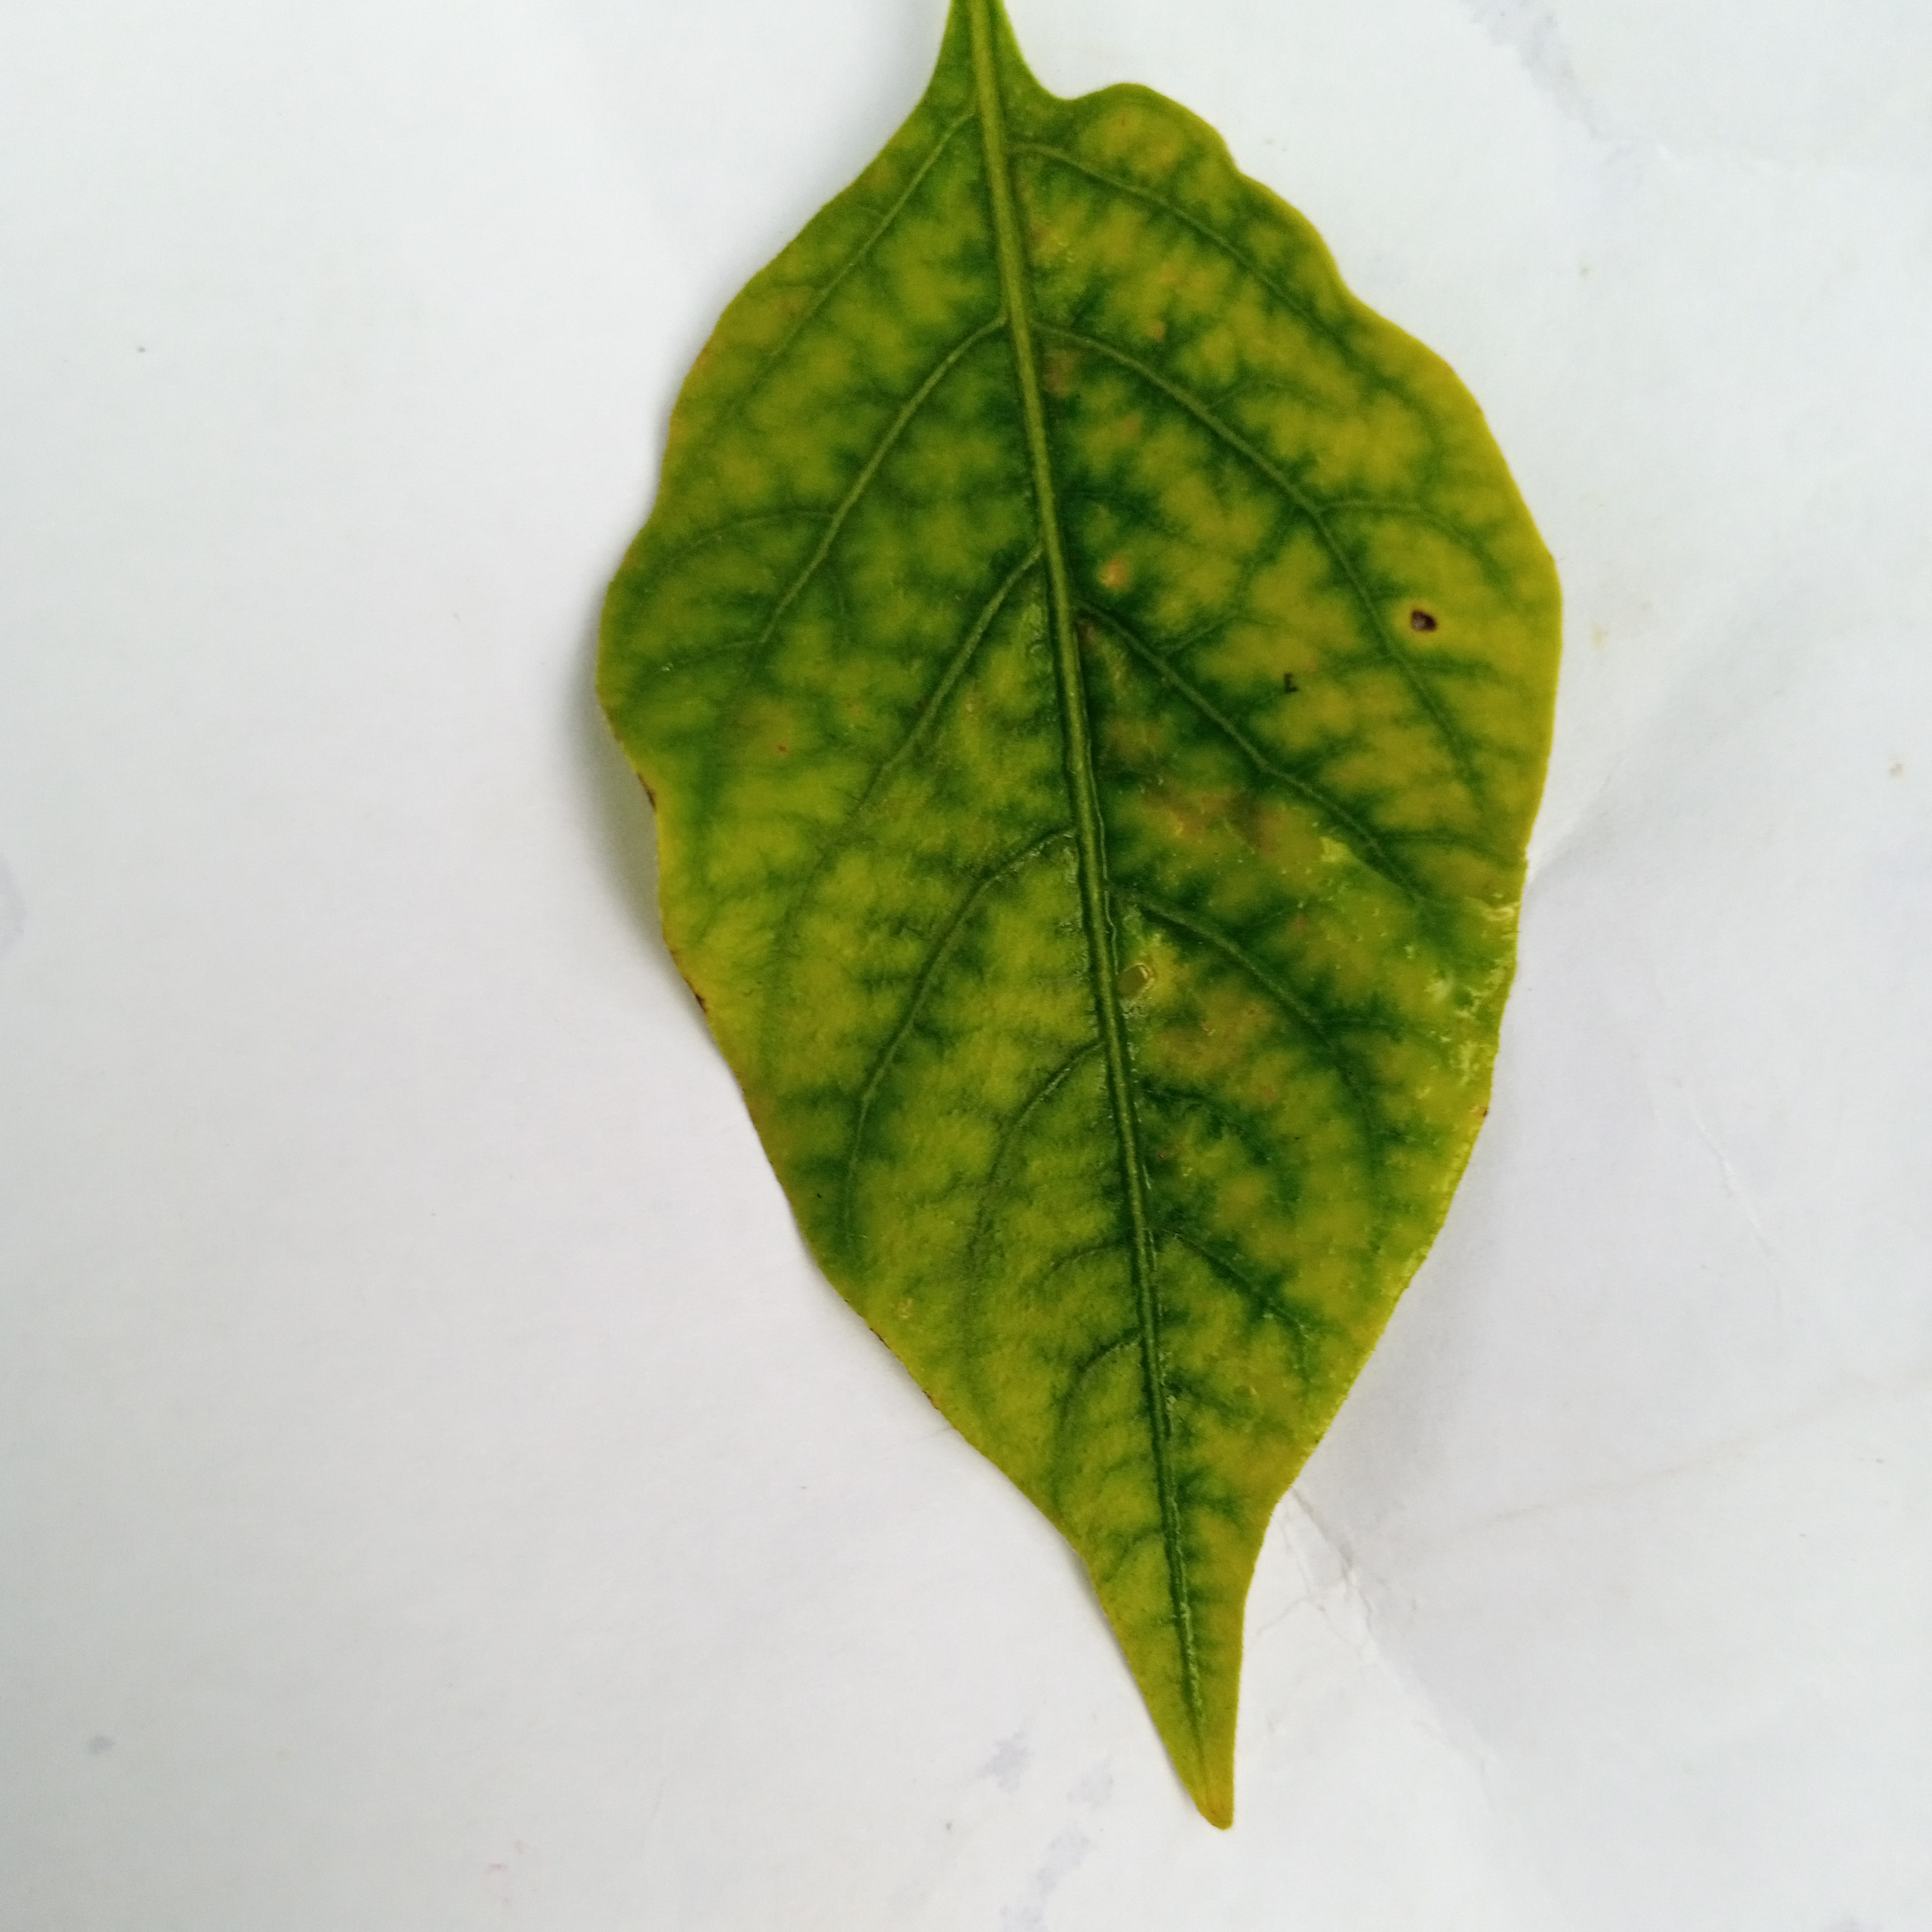Leaf: (359, 41, 1752, 1904)
